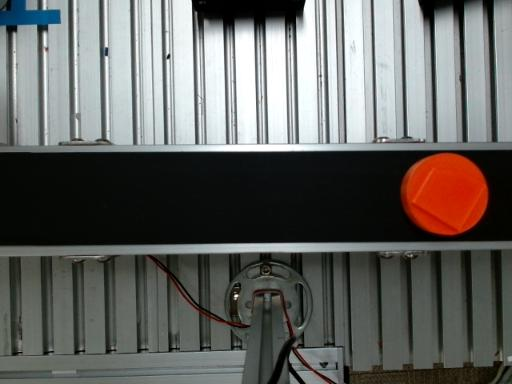Not_Square: (411, 167, 487, 232)
Orange_Waper: (401, 153, 487, 235)
